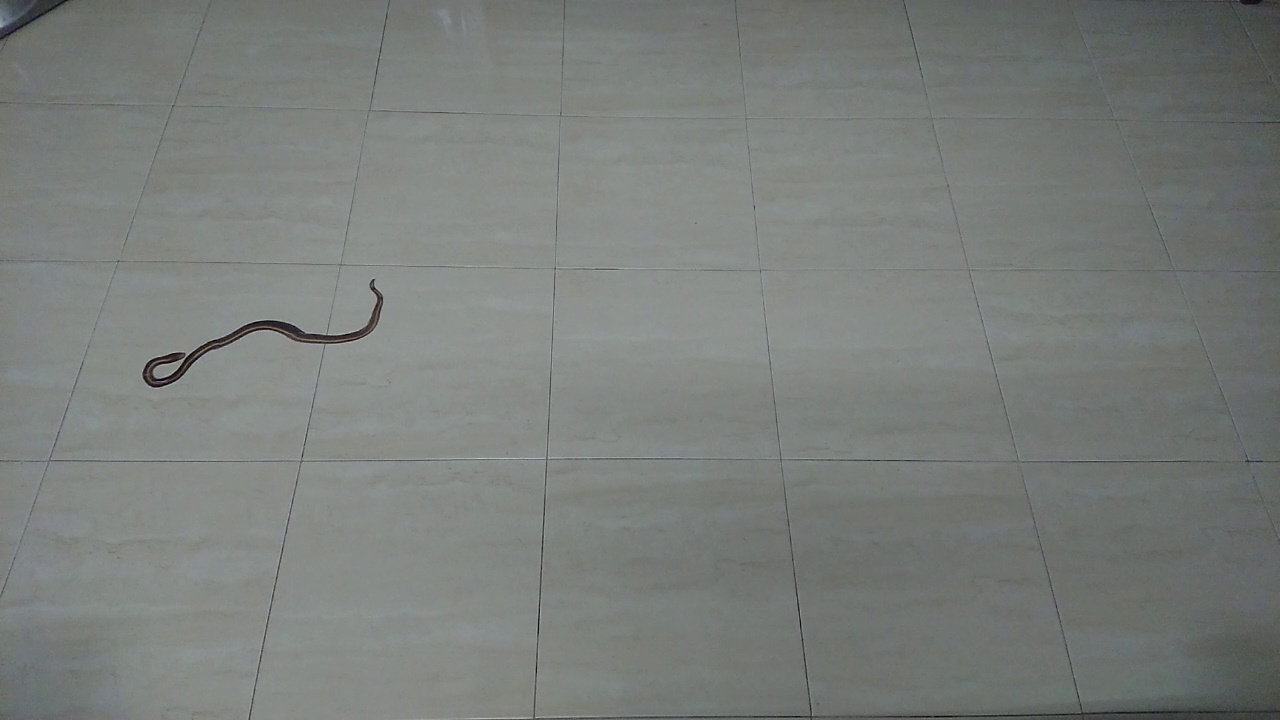snake: (125, 268, 398, 391)
